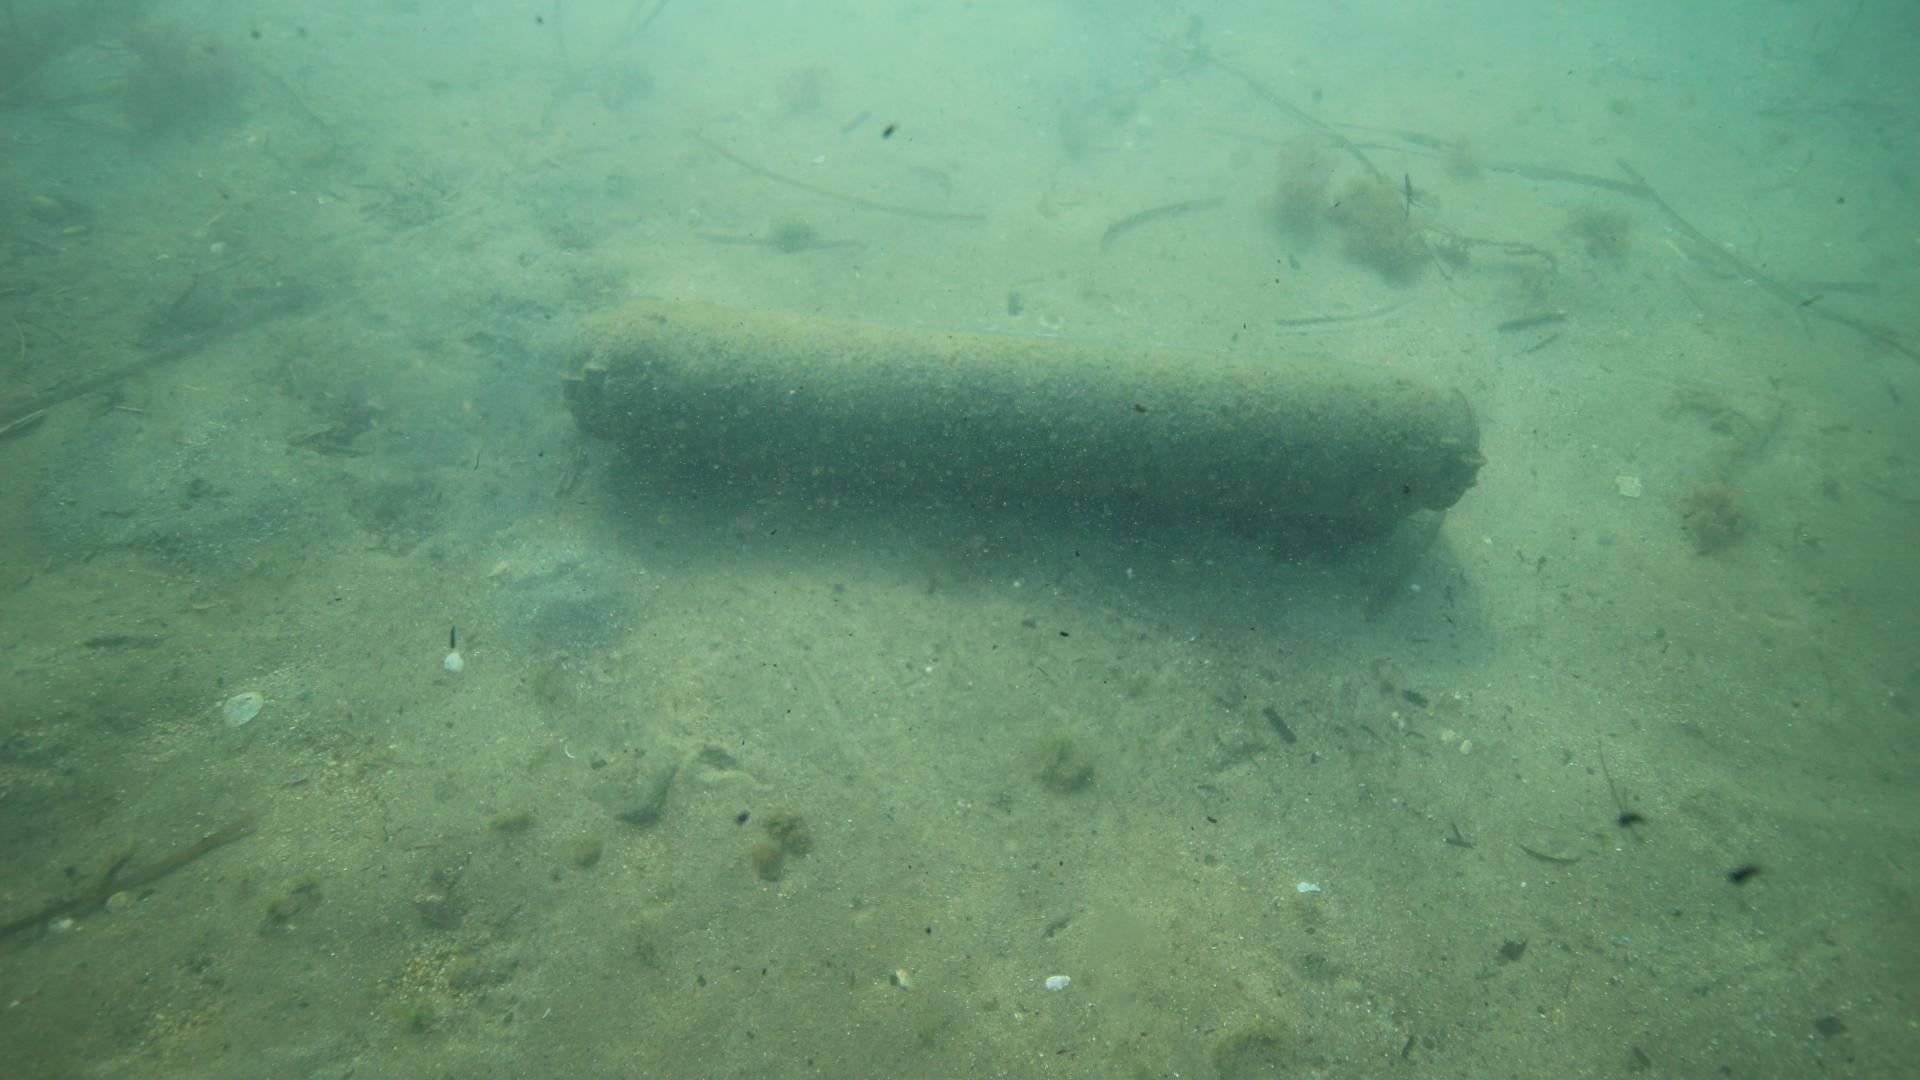eel fish trap: (562, 301, 1485, 520)
